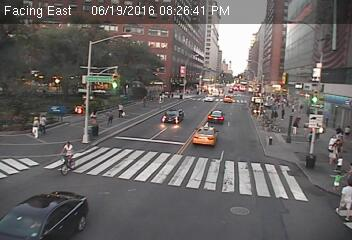neg: (53, 138, 80, 173), (248, 95, 265, 119), (211, 107, 219, 118), (195, 80, 203, 90)
pos: (335, 176, 351, 217), (326, 141, 344, 166), (330, 171, 348, 195), (35, 112, 52, 135), (26, 117, 41, 138), (113, 102, 126, 120), (156, 89, 168, 105), (105, 110, 117, 125), (89, 107, 100, 121), (343, 122, 351, 139), (329, 136, 338, 148), (142, 95, 150, 106), (335, 124, 343, 134)
